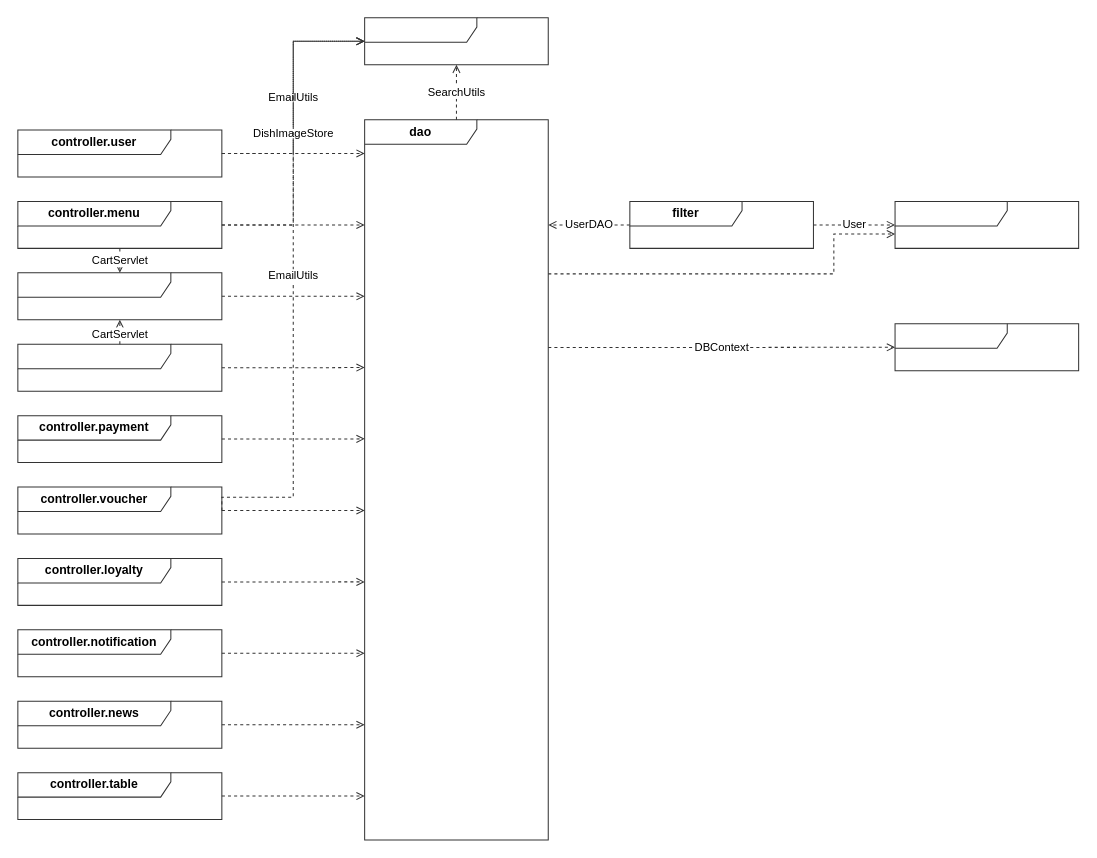
This 1097x858 diagram has some shape labels left out. The shapes that lost their labels are listed below. From the top down, each one's centre as x and y in pixels, then its label:
At point (456, 41): "utils".
At point (986, 224): "model".
At point (119, 296): "controller.order".
At point (119, 367): "controller.reservation".
At point (986, 347): "dal".
